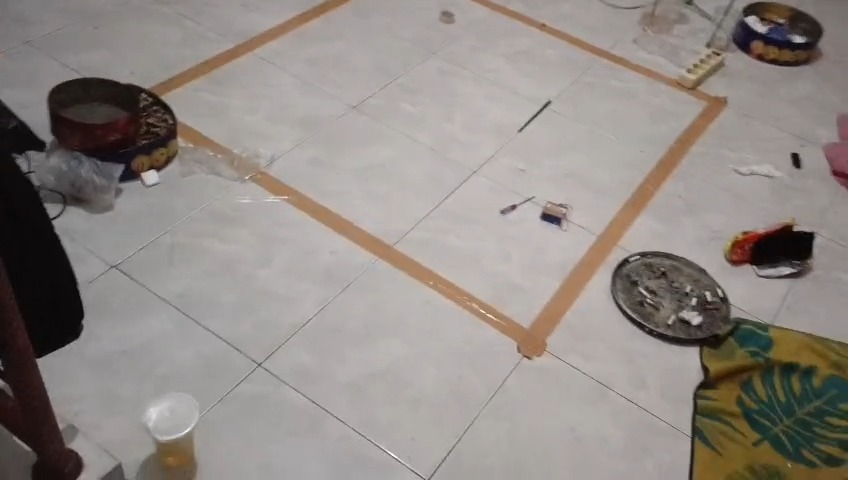floor marking: (250, 0, 727, 358), (151, 0, 349, 95), (180, 124, 234, 155)
